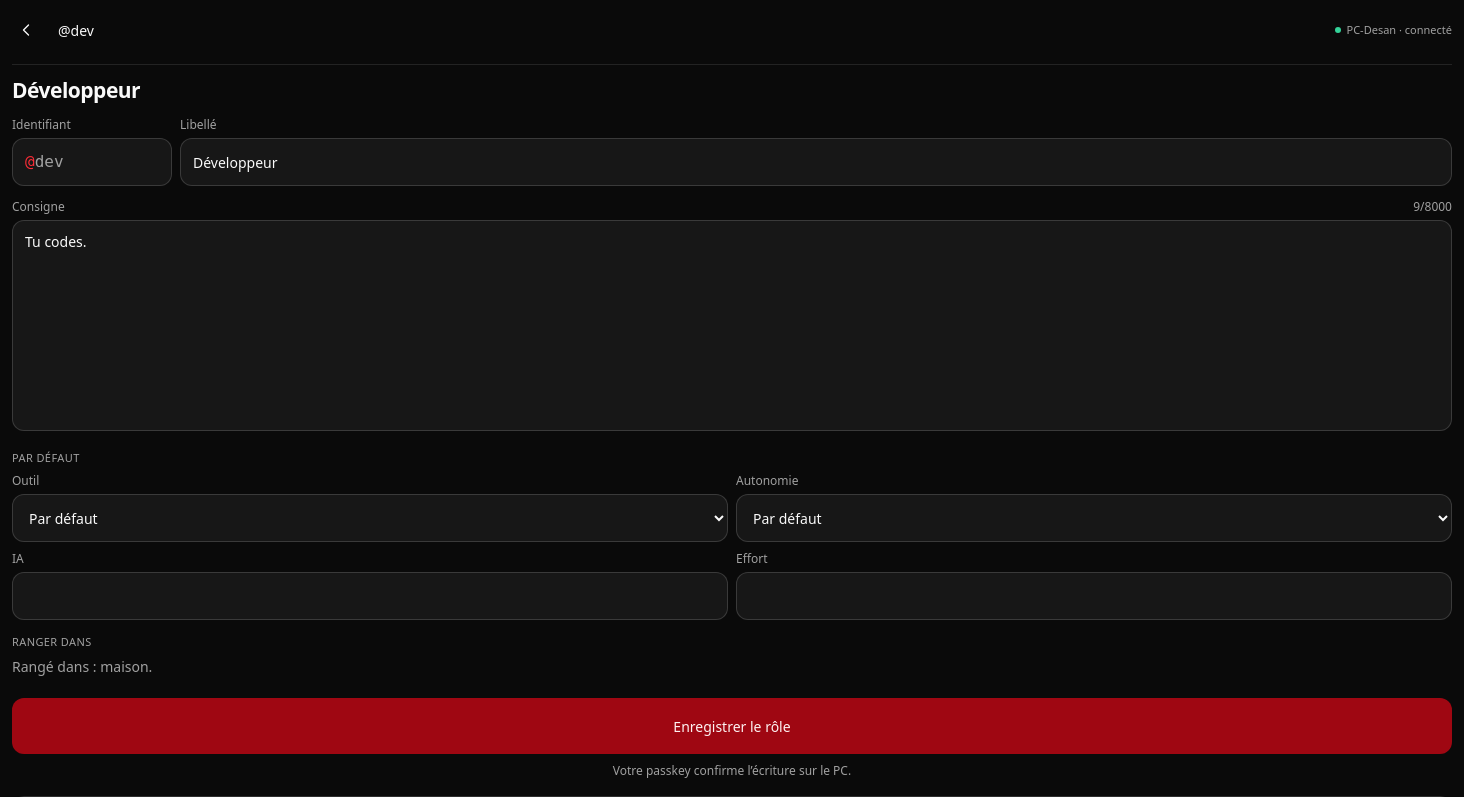
Test: the role editor › a cancelled passkey is a quiet note; any other refusal says the role was not saved
Click the button "Enregistrer le rôle" at (732, 726), box [12,698,1452,754]
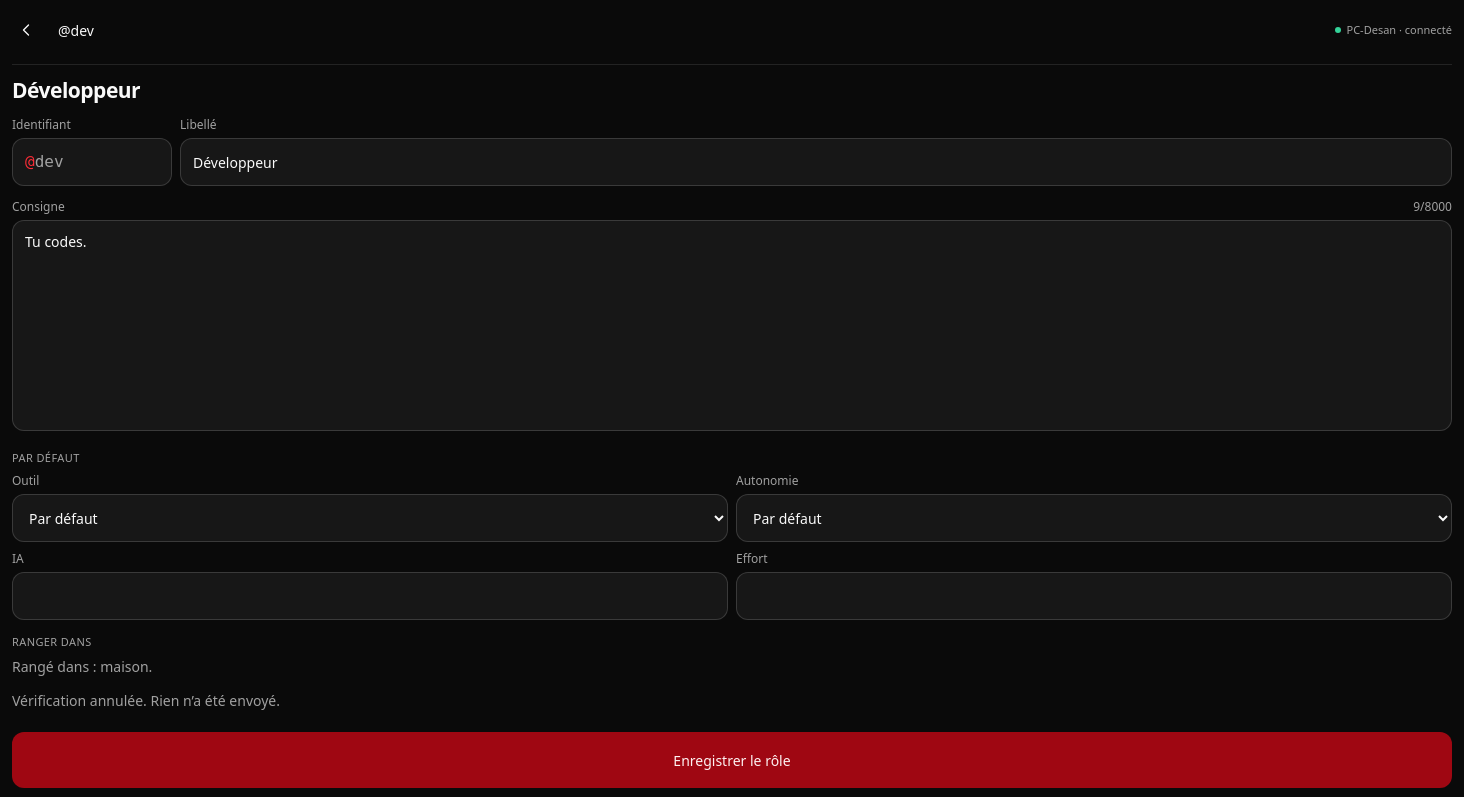
Expected: the message reads "Vérification annulée. Rien n’a été envoyé.", [12,691,280,710]
Click the button "Enregistrer le rôle" at (732, 760), box [12,732,1452,788]
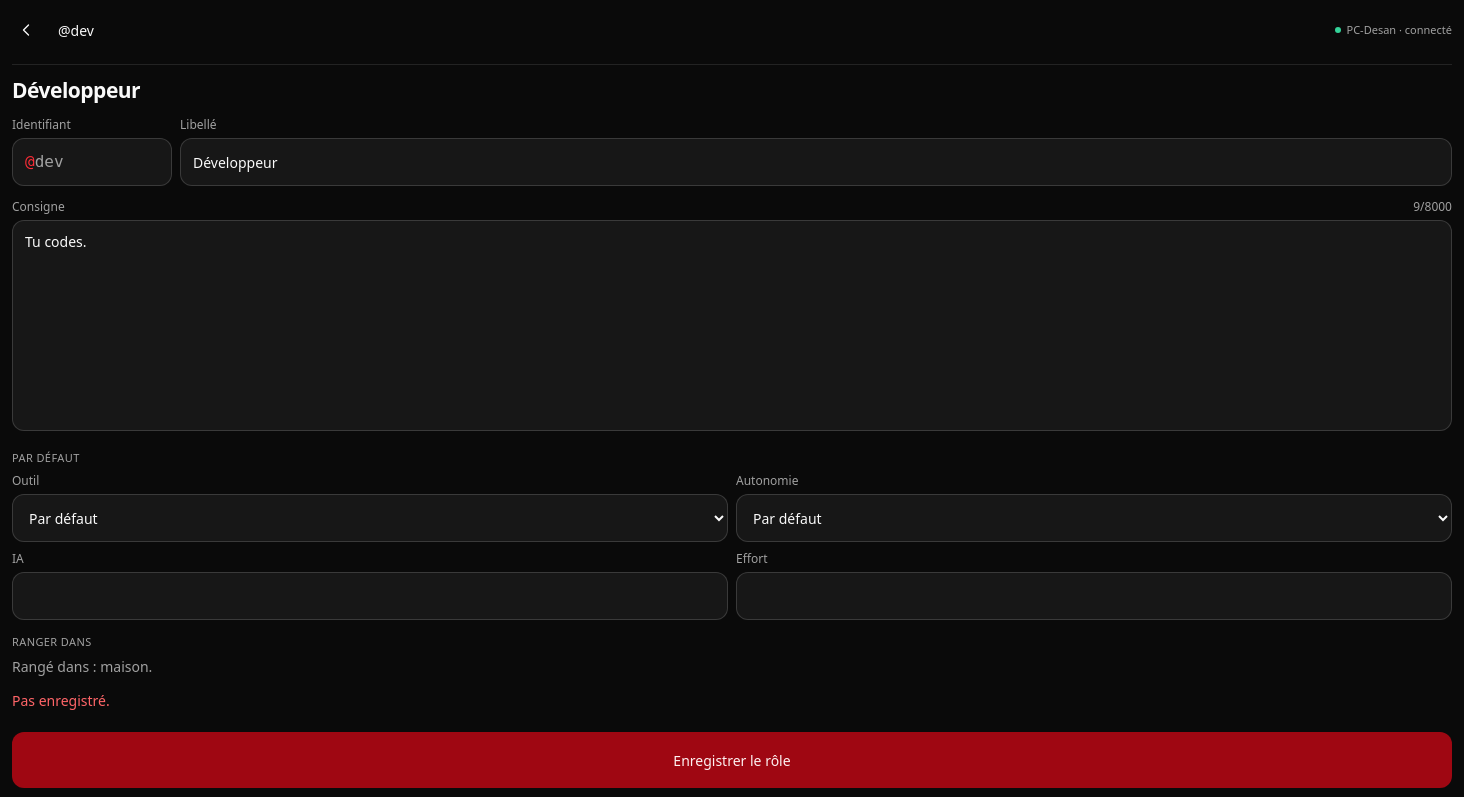
Expected: the message reads "Pas enregistré.", [12,691,110,710]
